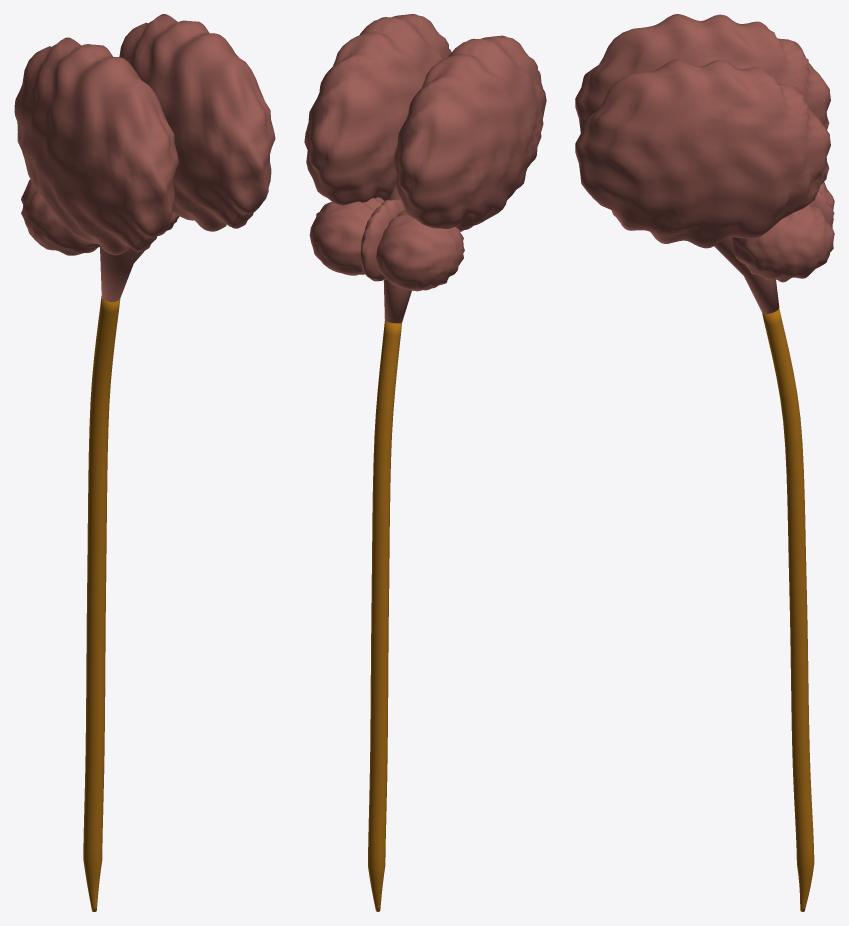
The model's file is brain-with-spinal-cord.glb.
The picture shows the model from 3 angles, left to right: view 1: azimuth 30°, elevation 25°; view 2: azimuth 150°, elevation 25°; view 3: azimuth 270°, elevation 25°; orthographic projection. The views are drawn at different scales.
Visible parts, largest first — view 1: Right cerebral hemisphere with cortical gyri, Left cerebral hemisphere with cortical gyri, Spinal cord ending near L1 with tapered conus, Right cerebellar hemisphere, Midbrain pons medulla; view 2: Right cerebral hemisphere with cortical gyri, Left cerebral hemisphere with cortical gyri, Spinal cord ending near L1 with tapered conus, Right cerebellar hemisphere, Left cerebellar hemisphere, Cerebellar vermis, Midbrain pons medulla; view 3: Left cerebral hemisphere with cortical gyri, Right cerebral hemisphere with cortical gyri, Spinal cord ending near L1 with tapered conus, Left cerebellar hemisphere, Midbrain pons medulla.
Boxes of the visible parts, x1,y1,x2,y2 form: Right cerebral hemisphere with cortical gyri: (14, 37, 178, 255); Left cerebral hemisphere with cortical gyri: (119, 14, 275, 231); Spinal cord ending near L1 with tapered conus: (83, 296, 120, 911); Right cerebellar hemisphere: (21, 179, 100, 255); Midbrain pons medulla: (100, 246, 144, 302); Right cerebral hemisphere with cortical gyri: (393, 35, 546, 231); Left cerebral hemisphere with cortical gyri: (304, 14, 451, 205); Spinal cord ending near L1 with tapered conus: (368, 321, 401, 911); Right cerebellar hemisphere: (376, 210, 464, 291); Left cerebellar hemisphere: (309, 197, 384, 275); Cerebellar vermis: (360, 199, 404, 281); Midbrain pons medulla: (383, 185, 411, 323); Left cerebral hemisphere with cortical gyri: (575, 59, 830, 248); Right cerebral hemisphere with cortical gyri: (575, 14, 830, 133); Spinal cord ending near L1 with tapered conus: (762, 308, 814, 911); Left cerebellar hemisphere: (730, 204, 834, 282); Midbrain pons medulla: (714, 237, 779, 313).
Size of the model in its own units: 0.1407 by 0.6311 by 0.1701.
2 materials, 2 textured.
